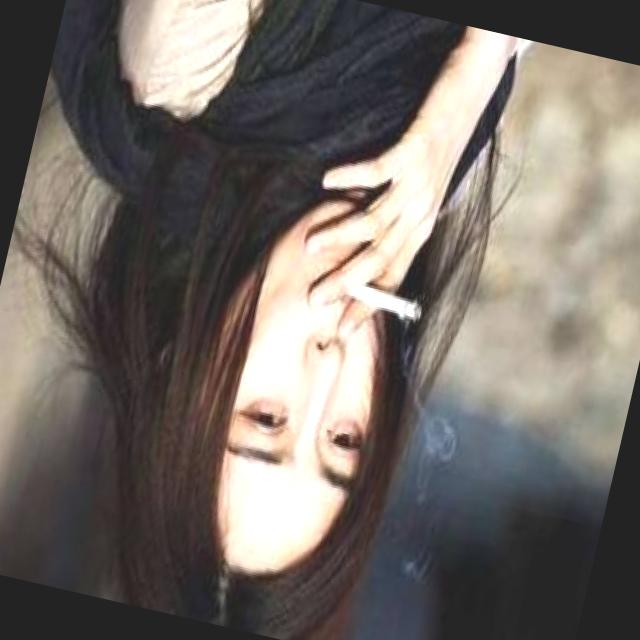smoke: (347, 282, 425, 326)
